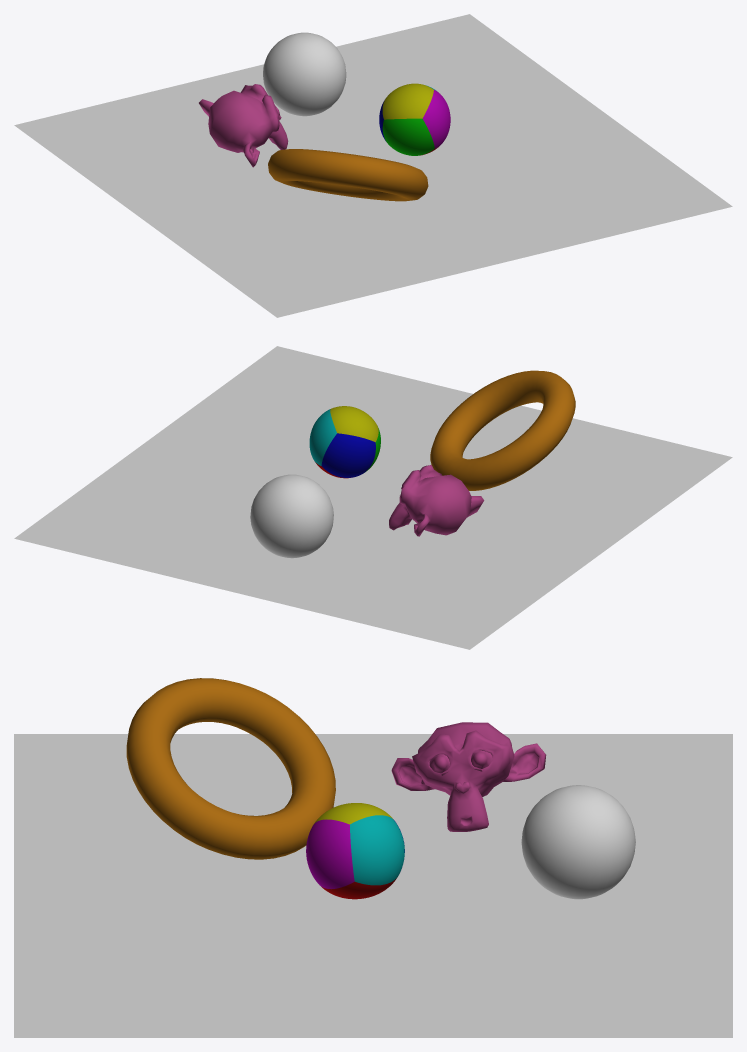
The model's file is test_cubes.obj.
The picture shows the model from 3 angles, top to bottom: view 1: azimuth 30°, elevation 25°; view 2: azimuth 150°, elevation 25°; view 3: azimuth 270°, elevation 25°; orthographic projection. The views are drawn at different scales.
Visible parts, largest first — view 1: Plane, Torus, Ball.Earth_Sphere.000, Suzanne, Cube; view 2: Plane, Torus, Ball.Earth_Sphere.000, Suzanne, Cube; view 3: Plane, Torus, Ball.Earth_Sphere.000, Suzanne, Cube.
Part boxes in pixels (<box>): Plane: <box>14,14,732,317</box>; Torus: <box>268,149,428,201</box>; Ball.Earth_Sphere.000: <box>263,32,346,116</box>; Suzanne: <box>199,84,288,167</box>; Cube: <box>379,83,450,155</box>; Plane: <box>14,346,732,649</box>; Torus: <box>430,370,575,490</box>; Ball.Earth_Sphere.000: <box>250,474,333,558</box>; Suzanne: <box>389,465,484,536</box>; Cube: <box>309,406,380,478</box>; Plane: <box>14,734,732,1037</box>; Torus: <box>126,678,335,859</box>; Ball.Earth_Sphere.000: <box>521,785,635,899</box>; Suzanne: <box>391,722,546,831</box>; Cube: <box>306,803,404,899</box>.
Bounding box in the file's own units: 12.56 × 2.49 × 12.56.
